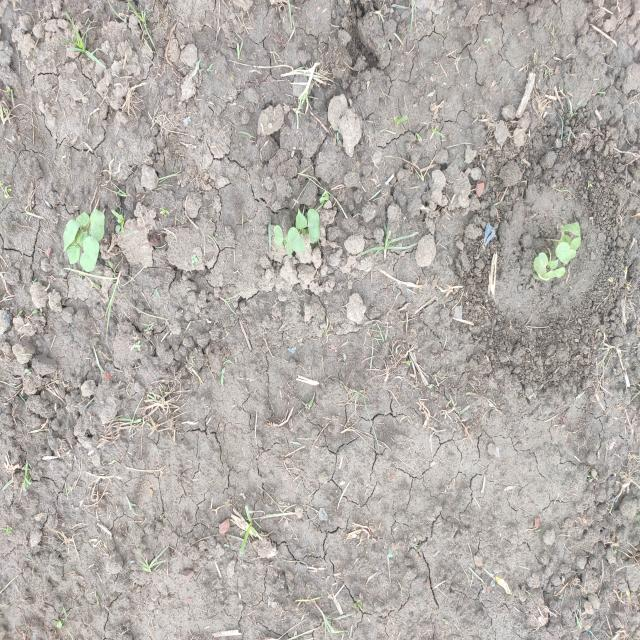seedling_s4: (80, 236, 100, 272), (63, 220, 80, 252), (90, 209, 105, 241), (287, 227, 306, 252), (307, 208, 320, 244), (555, 242, 576, 264), (534, 252, 548, 276), (560, 222, 580, 237), (67, 242, 80, 264), (543, 267, 565, 279), (296, 208, 307, 229), (273, 225, 283, 248), (76, 211, 89, 227), (76, 231, 87, 248), (285, 236, 292, 258), (570, 237, 581, 251), (548, 259, 558, 269)
